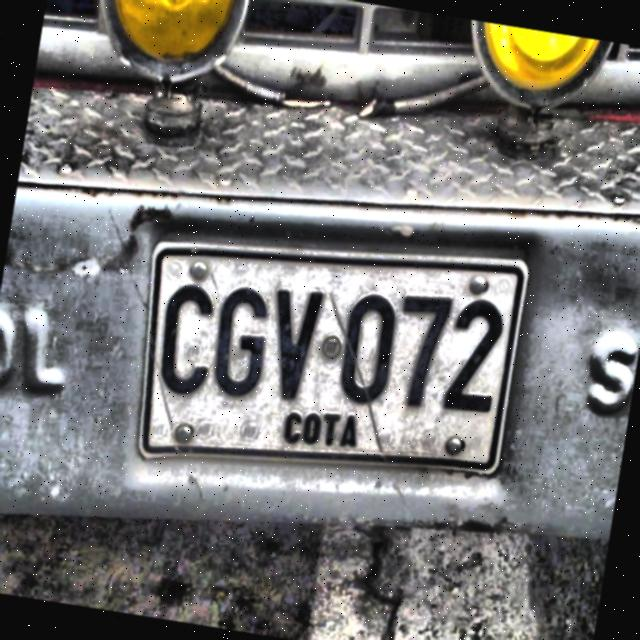0: (334, 288, 401, 410)
2: (440, 294, 510, 417)
7: (386, 291, 454, 413)
C: (152, 278, 224, 398)
G: (204, 282, 276, 406)
V: (260, 286, 326, 406)
